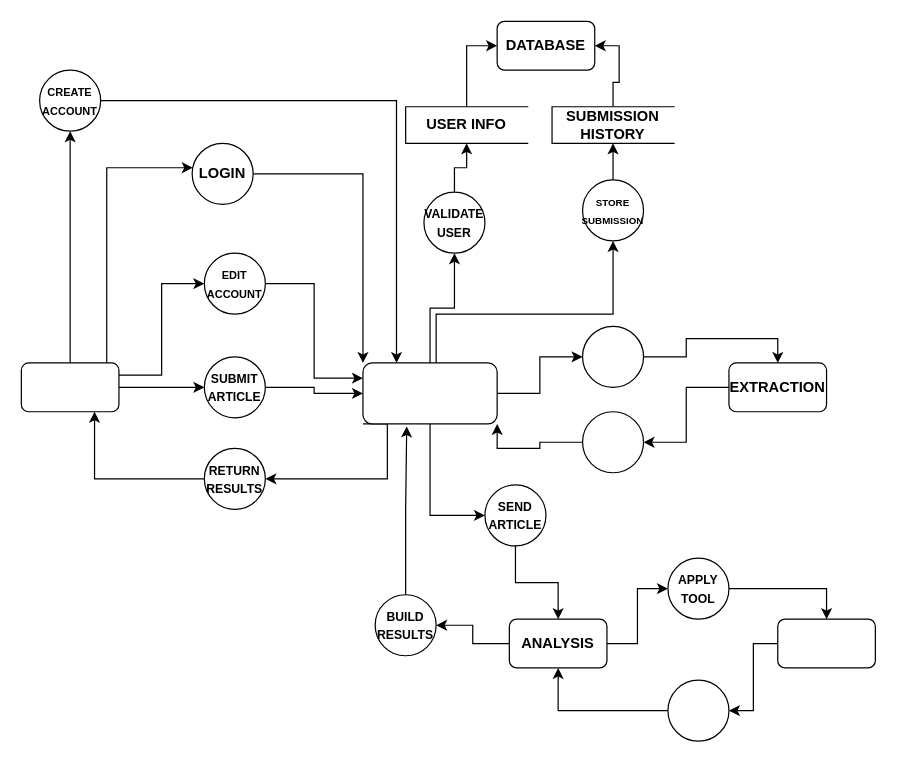
Some shapes in this 897 by 763 pixel diagram are drawn without their labels. Here are the shapes that lost their labels. From the top down, the box of each, then its label:
(581, 325, 644, 387): EXTRACT SUBMISSION
(20, 362, 119, 412): USER
(362, 362, 497, 424): WEB APP
(581, 411, 644, 473): RETURN DATA
(777, 618, 875, 668): ANALYSIS TOOLS
(667, 679, 729, 741): GET RESULT
